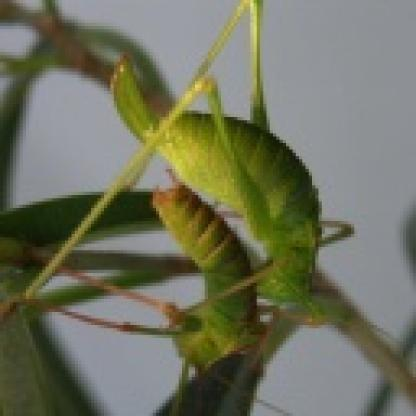grasshopper: (104, 0, 348, 316), (130, 177, 264, 412)
